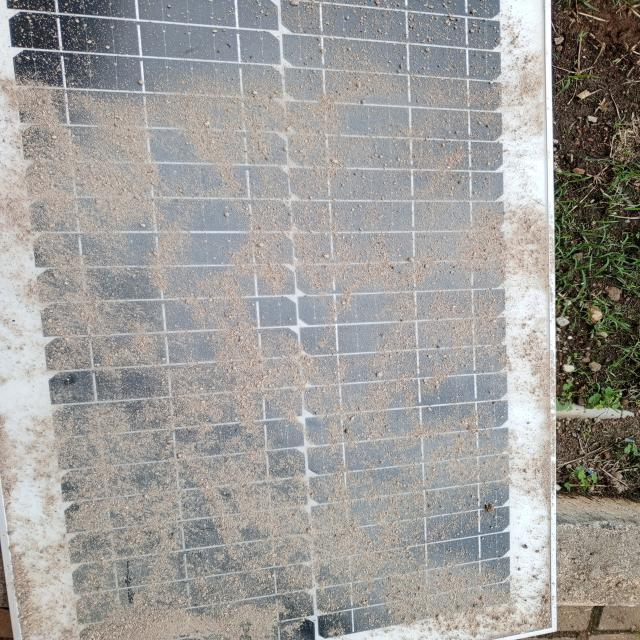Surface Contaminant: (21, 10, 535, 639)
